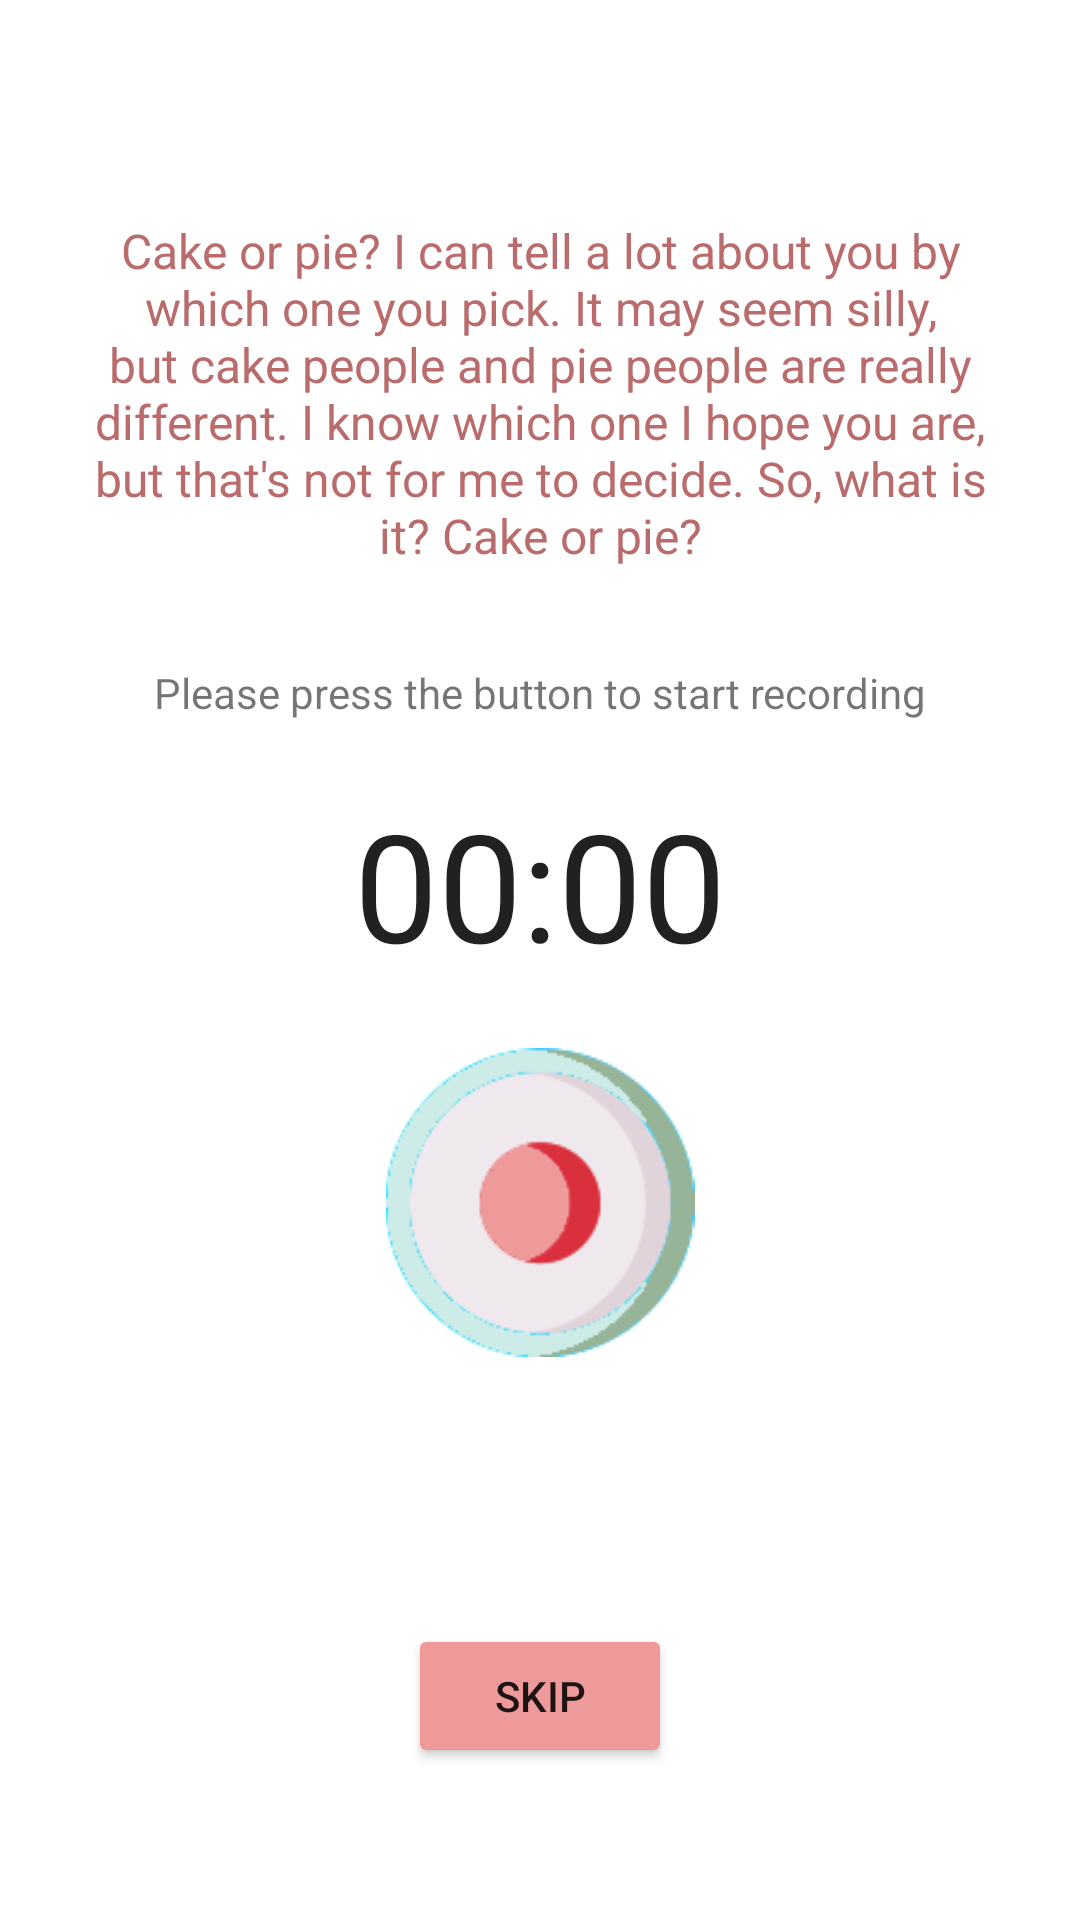

Icons on this 1080w x 1920h Android screen, each with its box as {"x1": x1, "y1": y1, "x2": x2, "y2": y2}:
recording start adult: {"x1": 386, "y1": 1048, "x2": 695, "y2": 1357}
